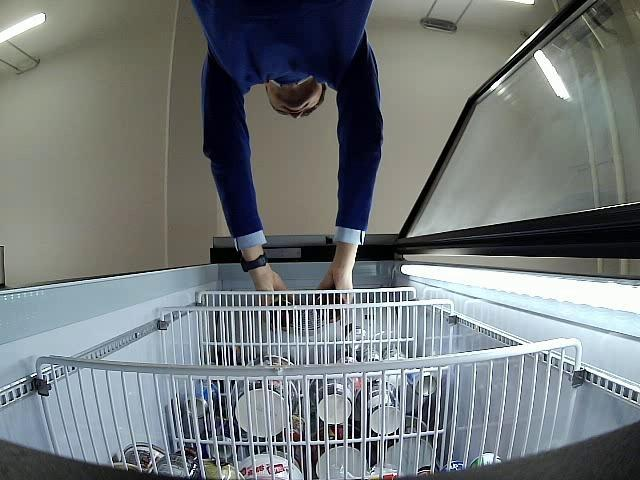19_17cha: (316, 296, 344, 320), (272, 300, 296, 328)
